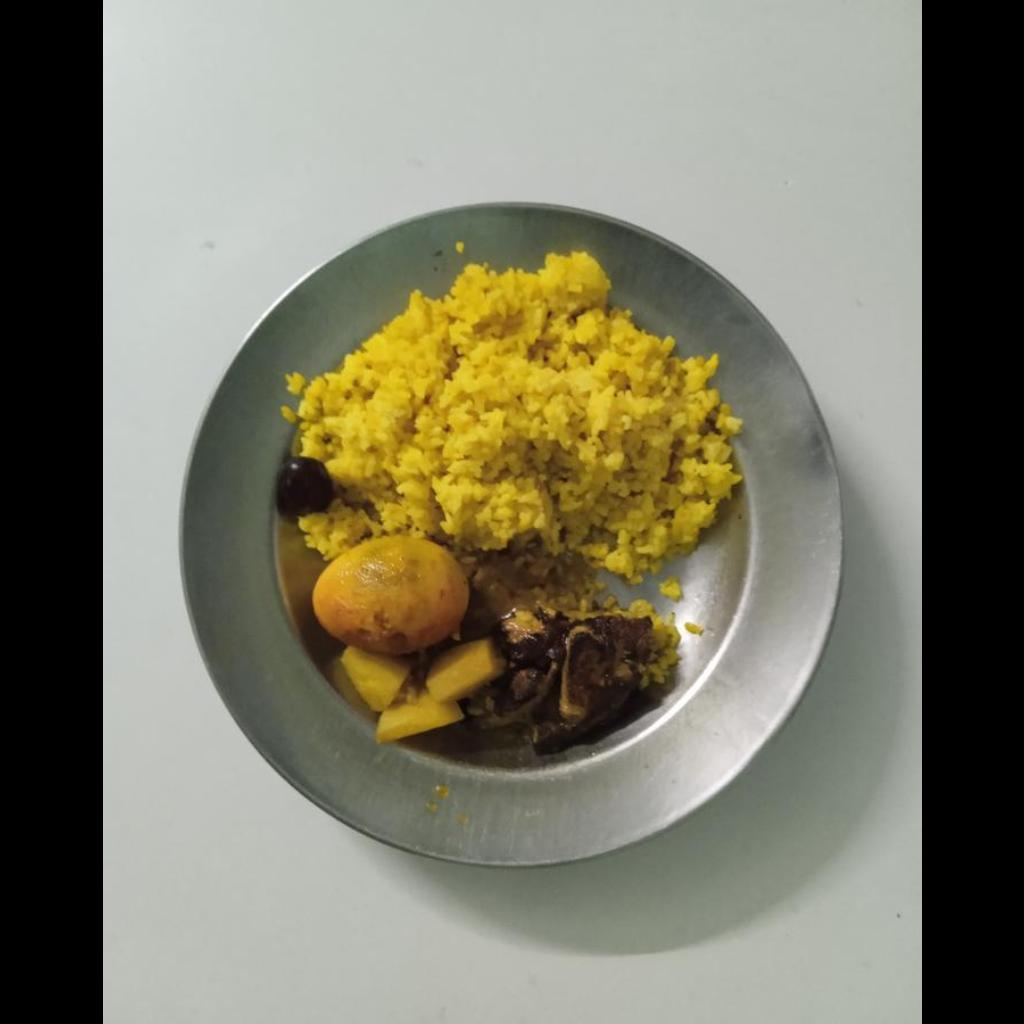begun-vaji: (467, 611, 670, 753)
dates: (275, 454, 333, 520)
egg-boiled: (311, 535, 468, 655)
khichuri: (309, 245, 734, 565)
potato: (333, 639, 502, 742)
